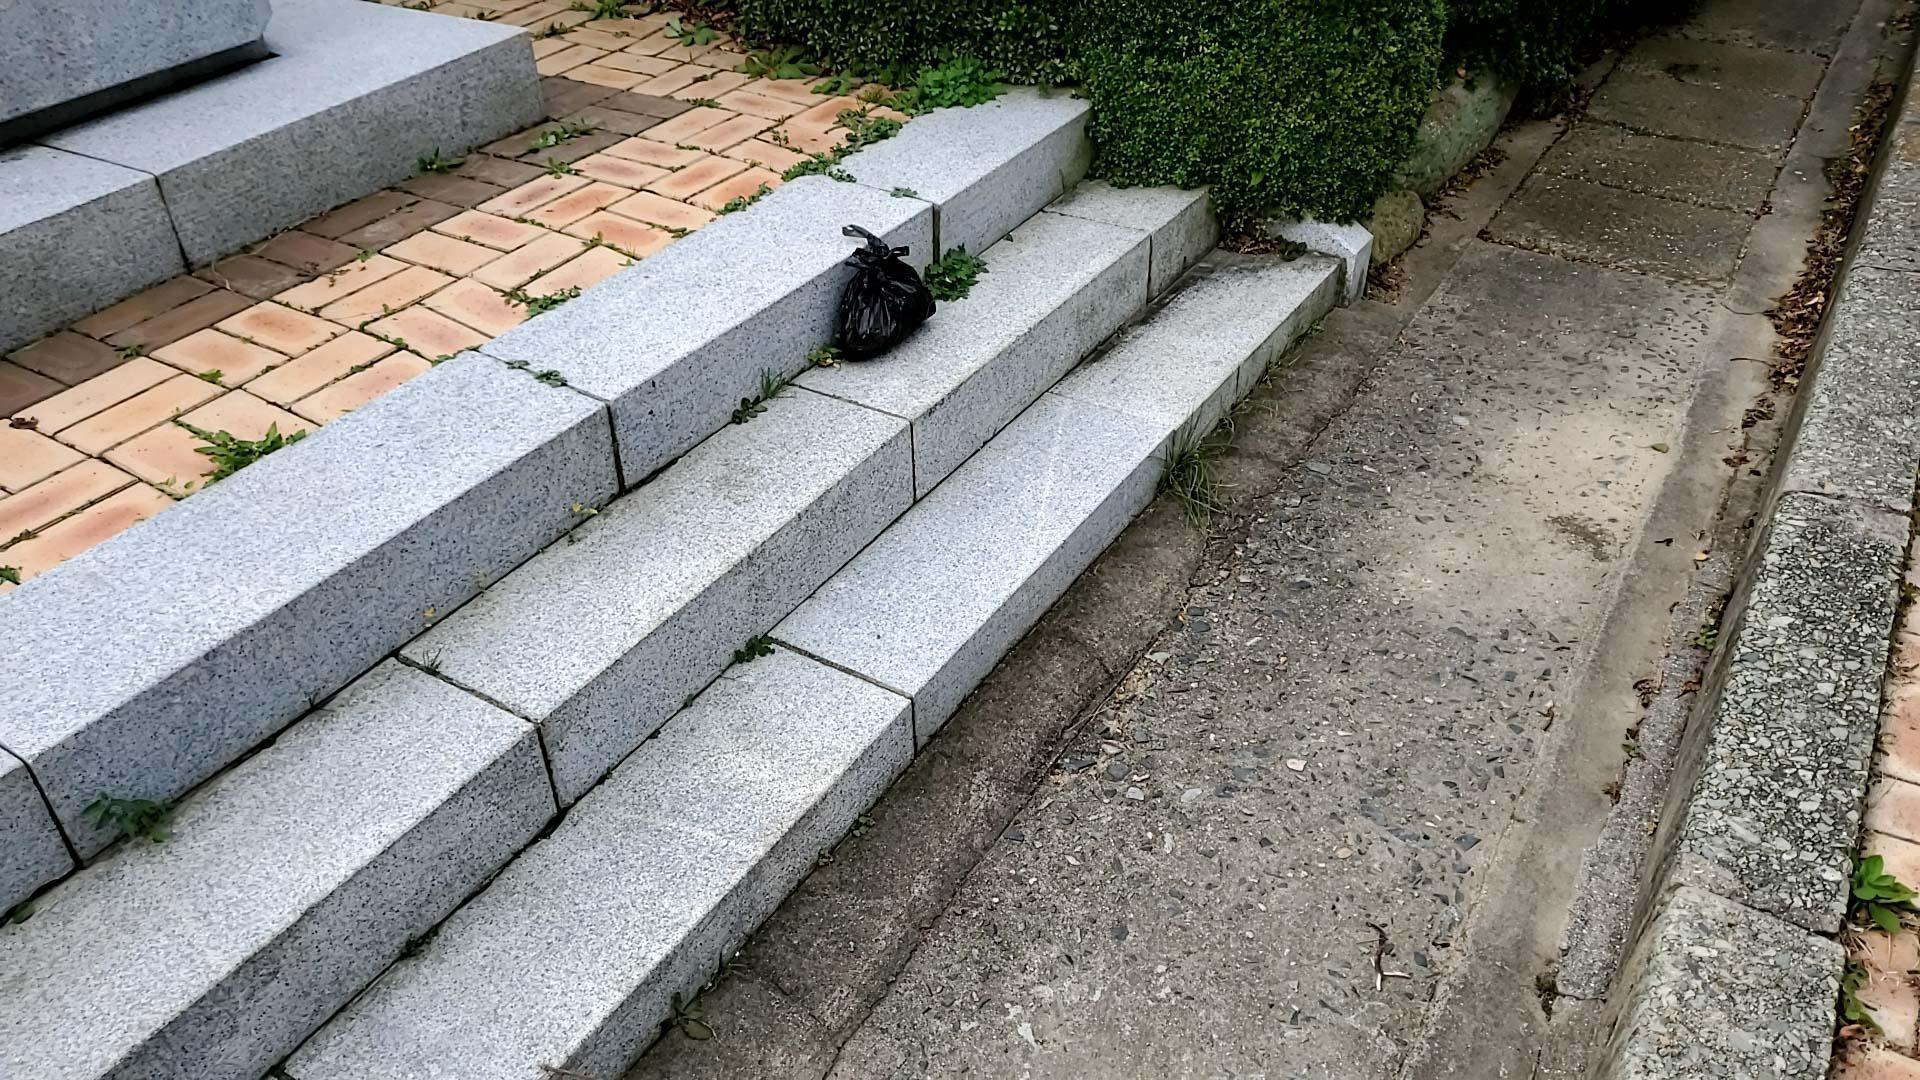black_bag: (820, 208, 944, 364)
